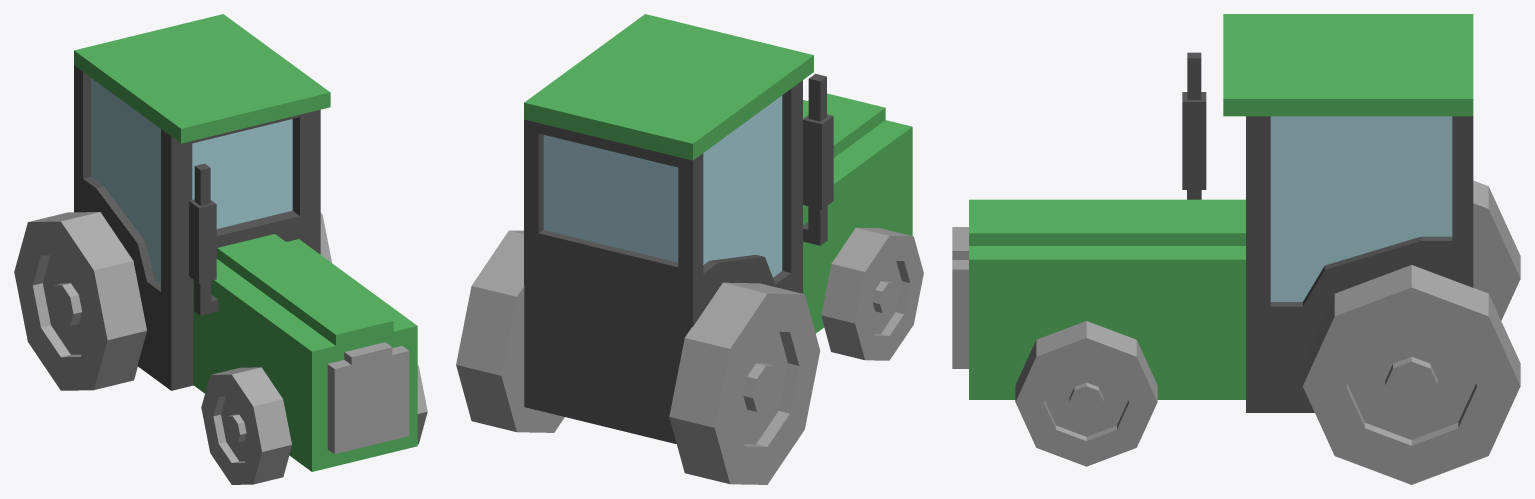
File: Trekker_01.fbx
3 views of the same model, side by side, from view 1: azimuth 30°, elevation 25°; view 2: azimuth 150°, elevation 25°; view 3: azimuth 270°, elevation 25° (orthographic). The views are drawn at different scales.
Parts seen in each view (by area): view 1: pCube18, pCube17, pCylinder7, pCylinder8, pCube10, pCylinder6; view 2: pCube18, pCylinder7, pCube17, pCylinder1, pCylinder8, pCube10; view 3: pCube18, pCube17, pCylinder1, pCylinder6, pCylinder7, pCube10.
Boxes of the visible parts, <box> form: pCube18: <box>74,14,330,390</box>; pCube17: <box>193,234,417,471</box>; pCylinder7: <box>14,212,146,390</box>; pCylinder8: <box>201,367,291,484</box>; pCube10: <box>189,163,218,315</box>; pCylinder6: <box>417,365,427,444</box>; pCube18: <box>524,14,813,443</box>; pCylinder7: <box>669,282,820,484</box>; pCube17: <box>803,93,912,333</box>; pCylinder1: <box>456,230,564,432</box>; pCylinder8: <box>821,227,923,360</box>; pCube10: <box>803,73,833,245</box>; pCube18: <box>1223,14,1473,412</box>; pCube17: <box>952,199,1245,399</box>; pCylinder1: <box>1302,265,1520,484</box>; pCylinder6: <box>1015,321,1157,466</box>; pCylinder7: <box>1473,180,1520,320</box>; pCube10: <box>1182,52,1206,199</box>.
Size of the model in its own units: 9.99 by 12.99 by 18.42.
